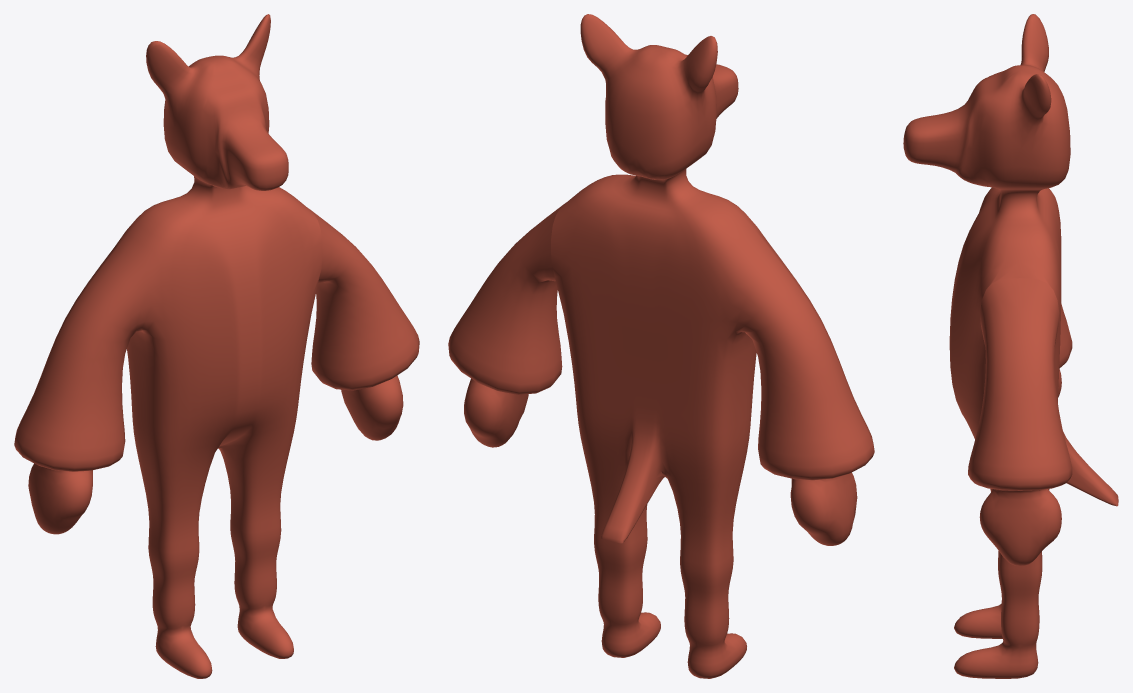
The model's file is SM_Cobold.fbx.
The picture shows the model from 3 angles, left to right: view 1: azimuth 30°, elevation 25°; view 2: azimuth 150°, elevation 25°; view 3: azimuth 270°, elevation 25°; orthographic projection. The views are drawn at different scales.
Visible parts, largest first — view 1: Cube.001; view 2: Cube.001; view 3: Cube.001.
Part boxes in pixels (x1,y1,x2,y2): Cube.001: [14, 14, 419, 678]; Cube.001: [448, 14, 874, 678]; Cube.001: [903, 14, 1118, 678].
Bounding box in the file's own units: 1443 × 2173 × 687.
